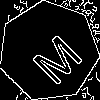M: (23, 26, 85, 88)
